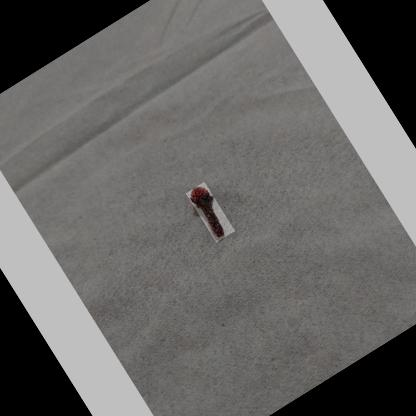sedang: (190, 186, 225, 239)
